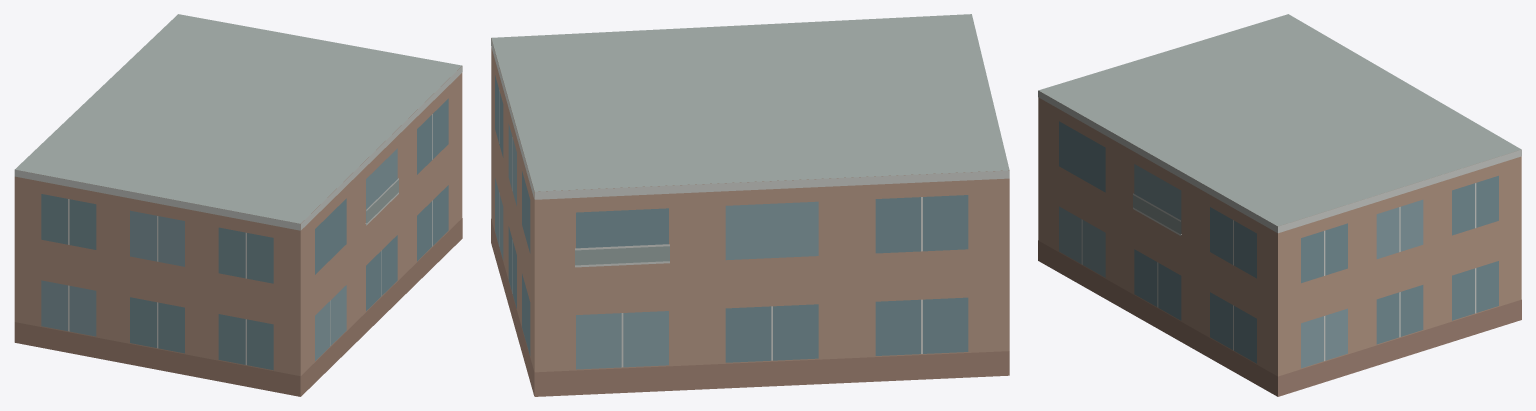
The model's file is survey-upis-32994306.glb.
3 views of the same model, side by side, from view 1: azimuth 30°, elevation 25°; view 2: azimuth 150°, elevation 25°; view 3: azimuth 270°, elevation 25° (orthographic). The views are drawn at different scales.
Parts seen in each view (by area): view 1: survey-upis-32994306.tmp; view 2: survey-upis-32994306.tmp; view 3: survey-upis-32994306.tmp.
Boxes of the visible parts, x1=… form: survey-upis-32994306.tmp: x1=14, y1=14, x2=462, y2=396; survey-upis-32994306.tmp: x1=491, y1=14, x2=1009, y2=396; survey-upis-32994306.tmp: x1=1038, y1=14, x2=1521, y2=396.
Size of the model in its own units: 16.33 by 6.1 by 15.7.
